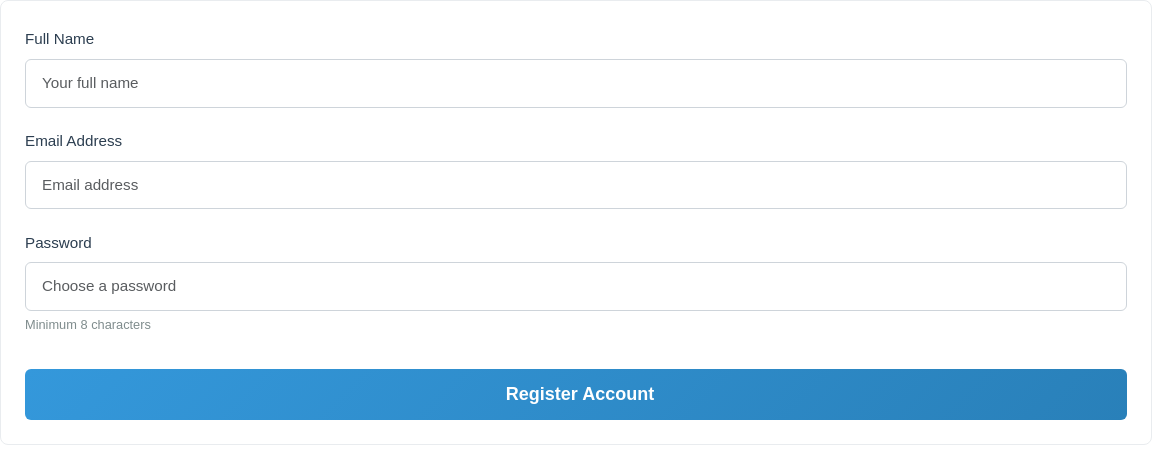
it: UserRegistration › shows loading state while submitting
Type "John Doe" into the field labelled "Full Name".
click(576, 83); type("John Doe")  # box [25, 59, 1127, 108]
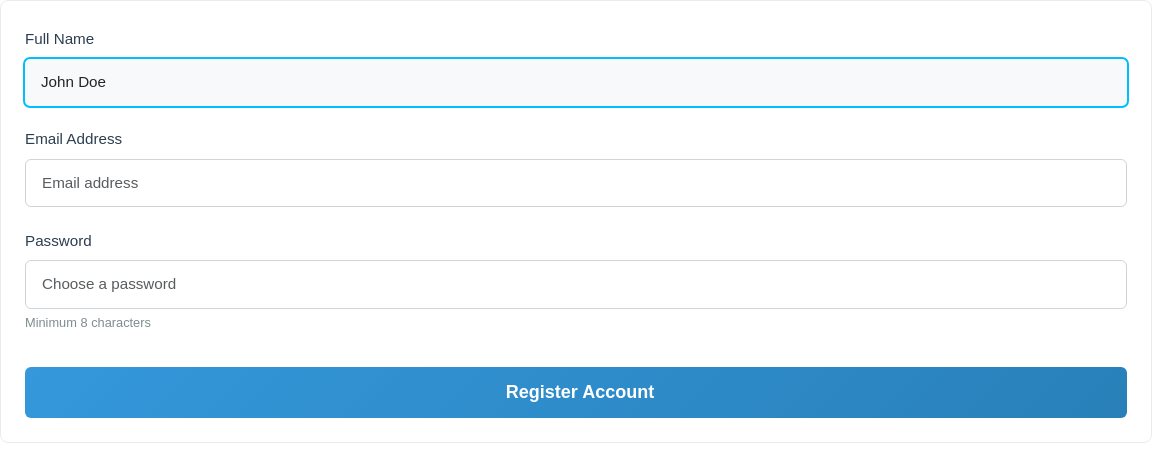
Type "john@example.com" into the field labelled "Email Address".
click(576, 183); type("john@example.com")  # box [25, 159, 1127, 207]
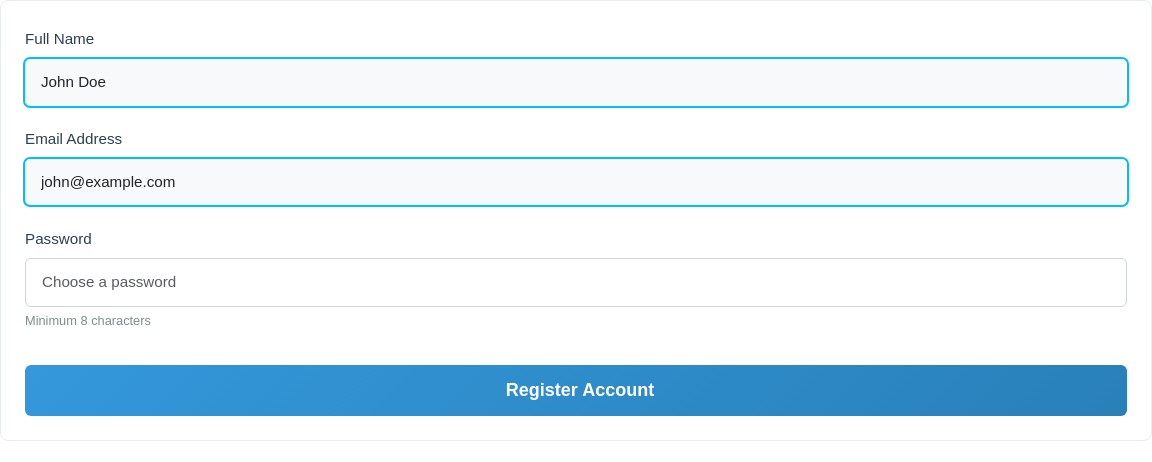
Type "password123" into the password field labelled "Password".
click(576, 283); type("password123")  # box [25, 258, 1127, 307]
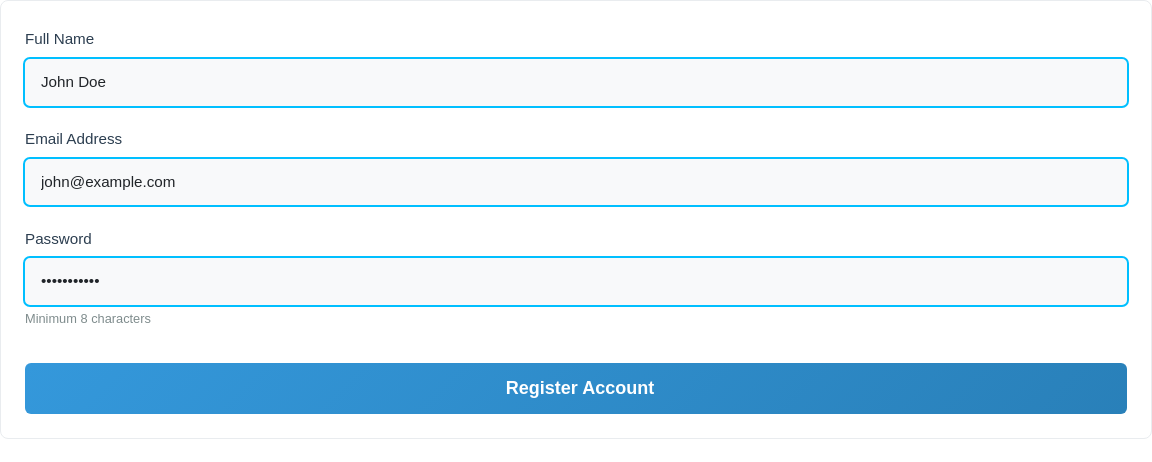
Click the button "Register Account".
click(576, 389)  # box [25, 364, 1127, 414]
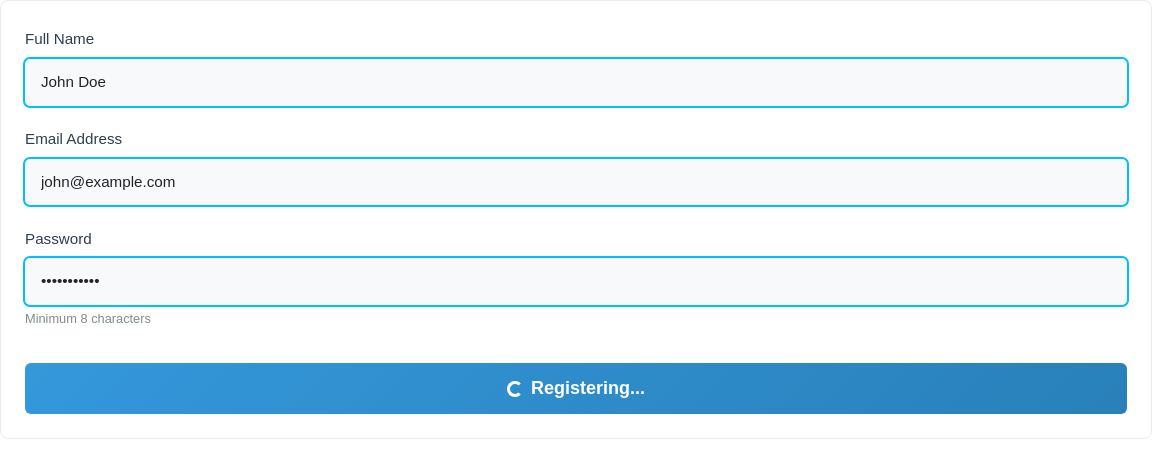
expect the button is disabled: met, box [25, 364, 1127, 414]
